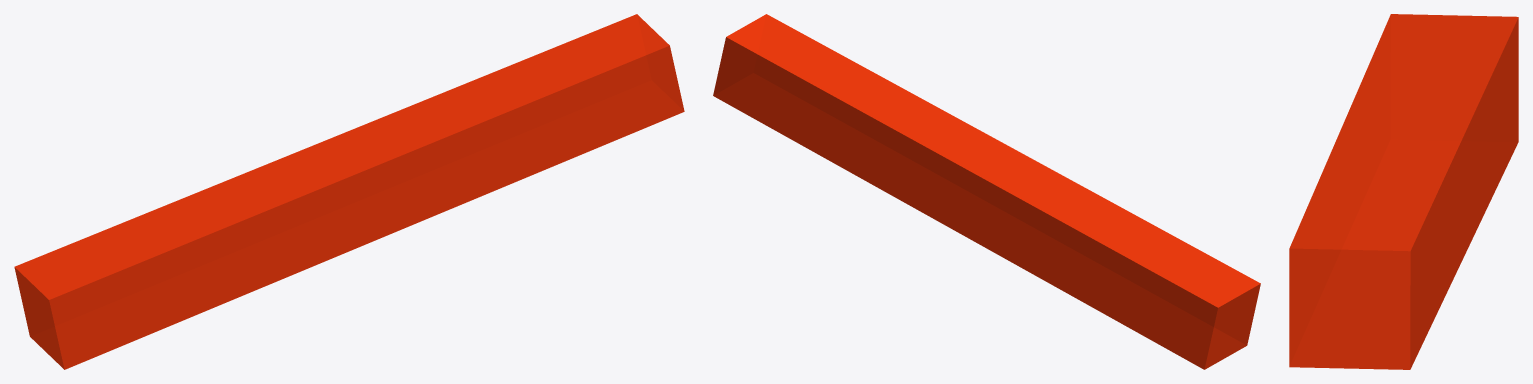
File: Event_420107950_EErechit_32.fbx
The picture shows the model from 3 angles, left to right: view 1: azimuth 30°, elevation 25°; view 2: azimuth 150°, elevation 25°; view 3: azimuth 270°, elevation 25°; orthographic projection. The views are drawn at different scales.
Parts seen in each view (by area): view 1: Model; view 2: Model; view 3: Model.
Boxes of the visible parts, x1,y1,x2,y2 form: Model: (14, 14, 684, 369); Model: (713, 14, 1260, 369); Model: (1289, 14, 1518, 369).
Size of the model in its own units: 0.6477 by 0.2135 by 0.1369.
